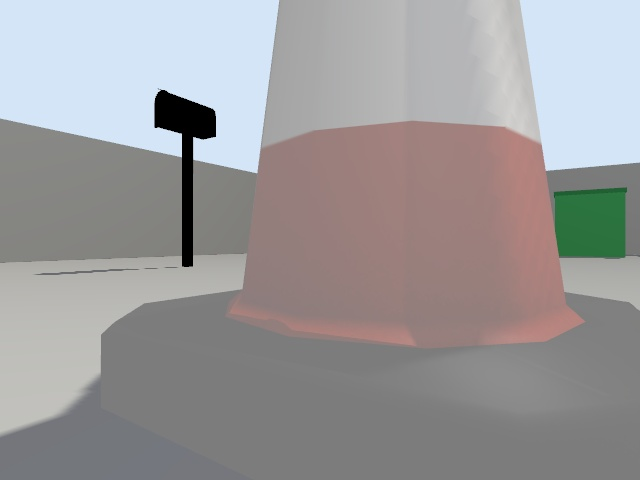boite_lettres: (154, 90, 215, 267)
cone_chantier: (101, 0, 639, 479)
